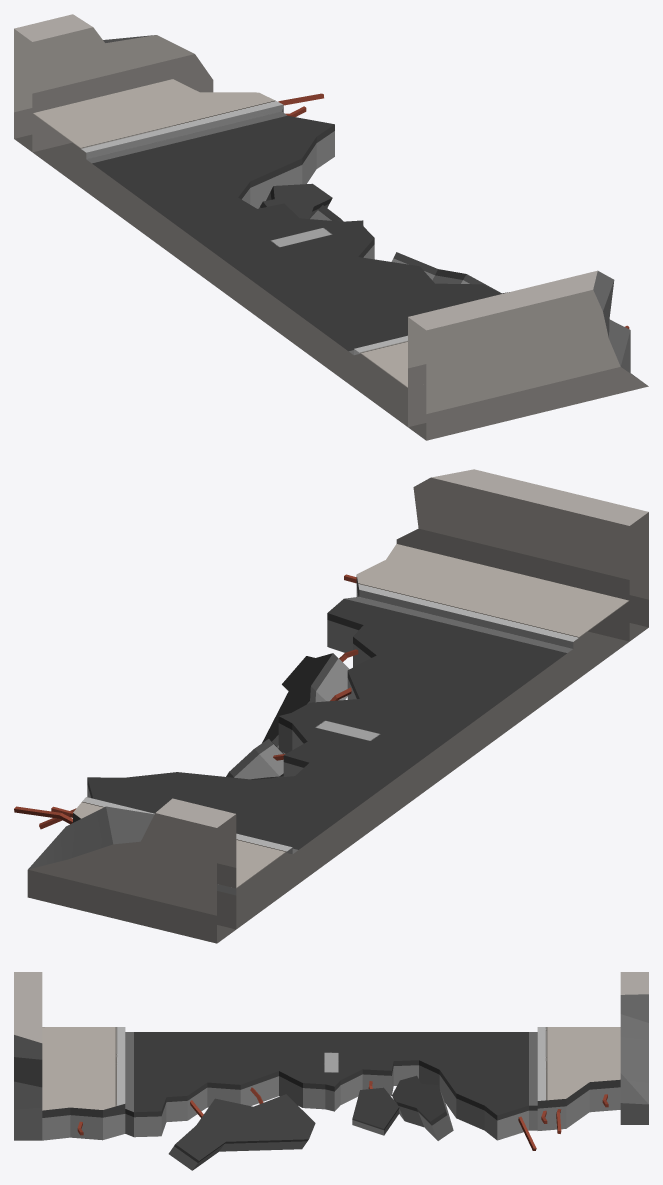
The model's file is SA_Env_Highway_Broken_01.gltf.
3 renders of one model, top to bottom at view 1: azimuth 30°, elevation 25°; view 2: azimuth 150°, elevation 25°; view 3: azimuth 270°, elevation 25°, orthographic. The views are drawn at different scales.
Parts seen in each view (by area): view 1: SA_Env_Highway_Broken_01; view 2: SA_Env_Highway_Broken_01; view 3: SA_Env_Highway_Broken_01.
Boxes of the visible parts, x1=… form: SA_Env_Highway_Broken_01: x1=14, y1=14, x2=648, y2=440; SA_Env_Highway_Broken_01: x1=14, y1=469, x2=648, y2=943; SA_Env_Highway_Broken_01: x1=14, y1=972, x2=648, y2=1170.
Bounding box in the file's own units: 7.71 × 4.58 × 21.96.
Materials: 1 (1 with a texture image).
